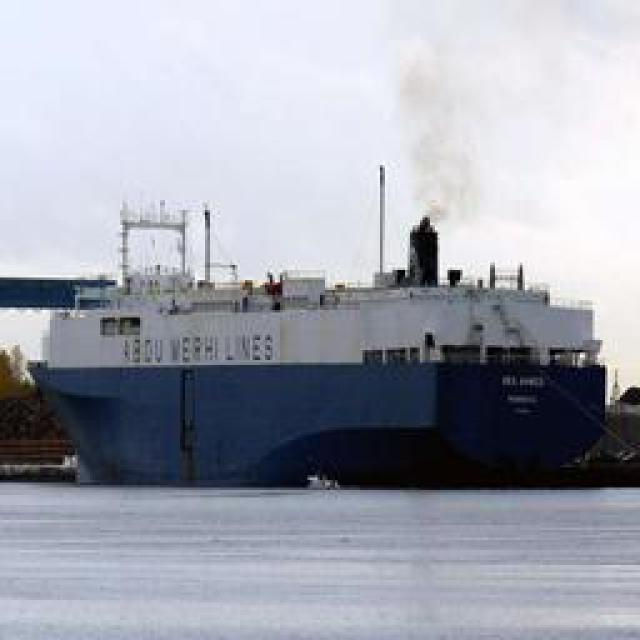Ship: (20, 180, 625, 490)
